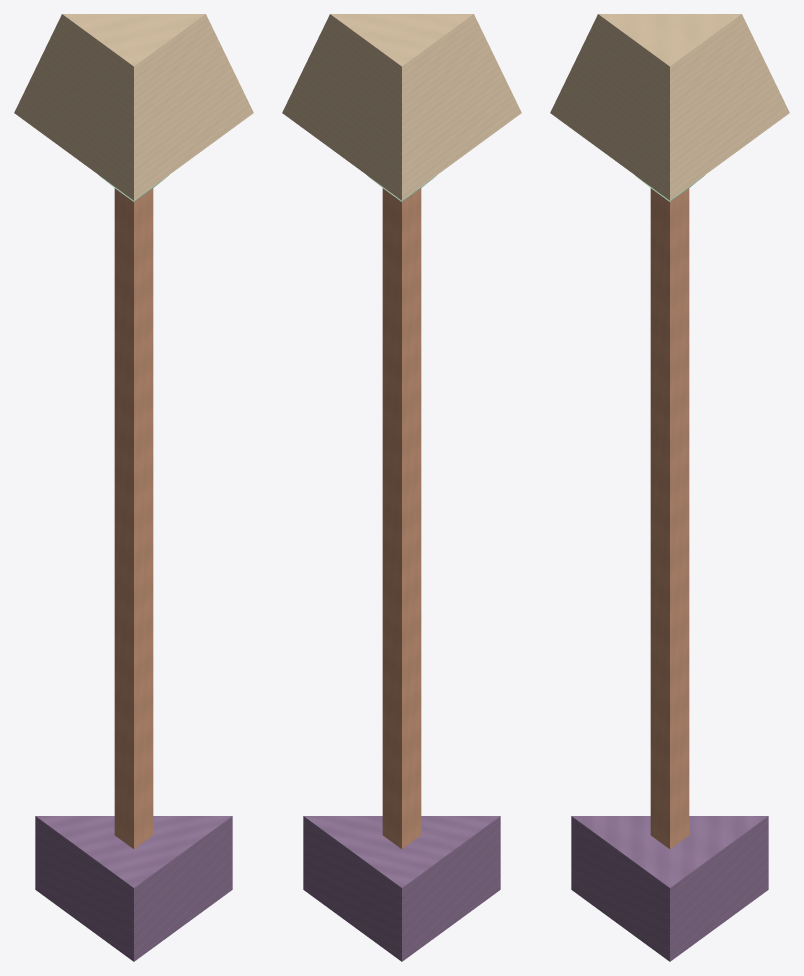
The model's file is atlas100-papercraft-util01.lod1.glb.
The picture shows the model from 3 angles, left to right: view 1: azimuth 30°, elevation 25°; view 2: azimuth 150°, elevation 25°; view 3: azimuth 270°, elevation 25°; orthographic projection.
Parts seen in each view (by area): view 1: atlas100-papercraft-util01:part-002, atlas100-papercraft-util01:part-001, atlas100-papercraft-util01:part-000; view 2: atlas100-papercraft-util01:part-002, atlas100-papercraft-util01:part-001, atlas100-papercraft-util01:part-000; view 3: atlas100-papercraft-util01:part-002, atlas100-papercraft-util01:part-001, atlas100-papercraft-util01:part-000.
Boxes of the visible parts, x1,y1,x2,y2 form: atlas100-papercraft-util01:part-002: (14,14,253,200); atlas100-papercraft-util01:part-001: (114,188,153,848); atlas100-papercraft-util01:part-000: (35,816,232,961); atlas100-papercraft-util01:part-002: (282,14,521,200); atlas100-papercraft-util01:part-001: (382,188,421,848); atlas100-papercraft-util01:part-000: (303,816,500,961); atlas100-papercraft-util01:part-002: (550,14,789,200); atlas100-papercraft-util01:part-001: (650,188,689,848); atlas100-papercraft-util01:part-000: (571,816,768,961).
Size of the model in its own units: 0.5569 by 2.61 by 0.6431.
4 materials, 4 textured.
